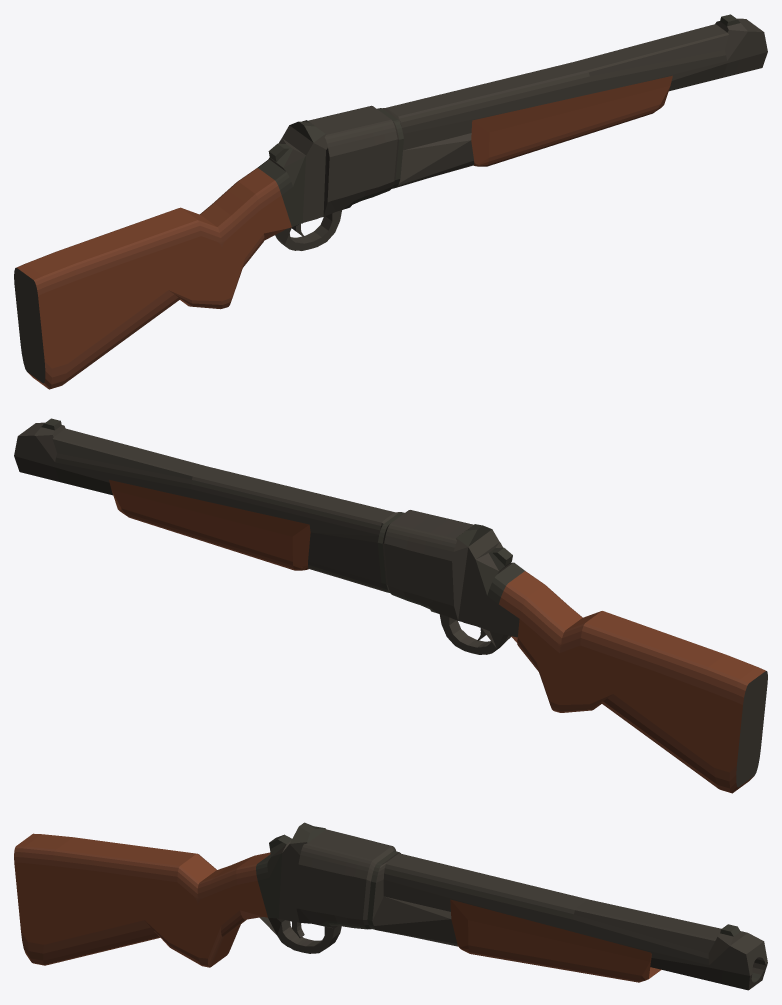
File: ShotGun.fbx
3 views of the same model, one above another, from view 1: azimuth 30°, elevation 25°; view 2: azimuth 150°, elevation 25°; view 3: azimuth 330°, elevation 25° (orthographic).
Visible parts, largest first — view 1: ShotGun; view 2: ShotGun; view 3: ShotGun.
Boxes of the visible parts, box(x1,y1,x2,y2) form: ShotGun: box(14, 14, 767, 389); ShotGun: box(14, 418, 767, 793); ShotGun: box(14, 822, 767, 990).
Size of the model in its own units: 135 by 34.64 by 9.99.
